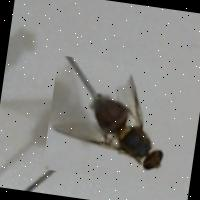Oriental-fruit-fly: (40, 54, 194, 188)
